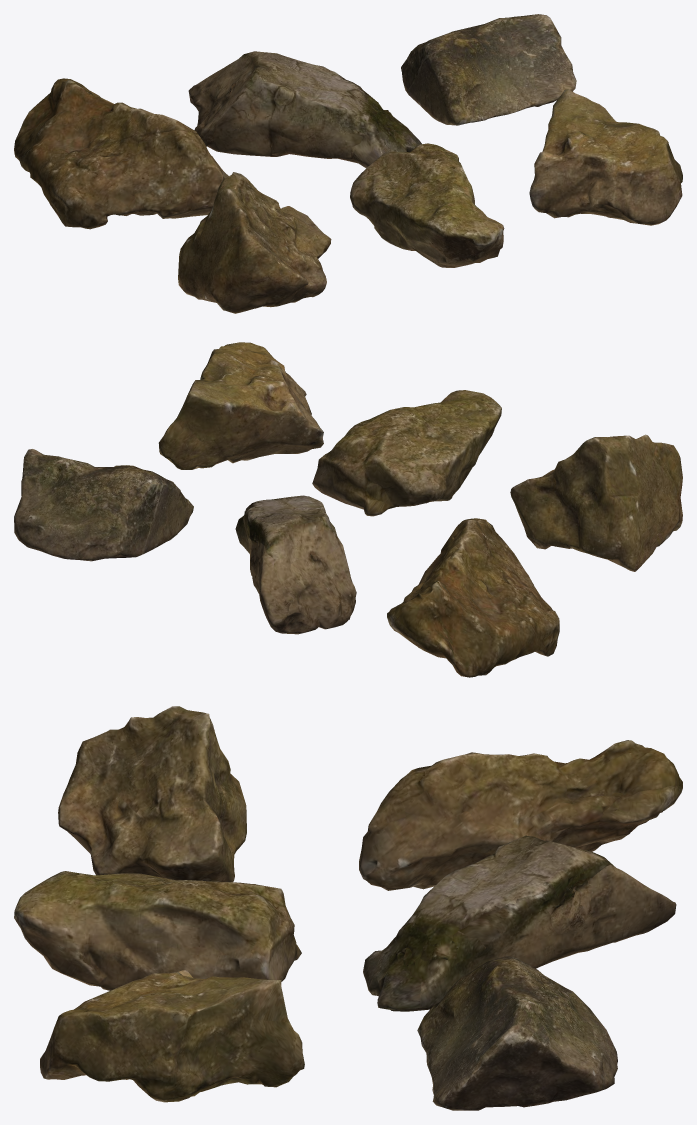
The model's file is ph_rock_moss_set_01.glb.
3 views of the same model, one above another, from view 1: azimuth 30°, elevation 25°; view 2: azimuth 150°, elevation 25°; view 3: azimuth 270°, elevation 25° (orthographic). The views are drawn at different scales.
Size of the model in its own units: 8 by 1.76 by 6.93.
Materials: 1 (1 with a texture image).
